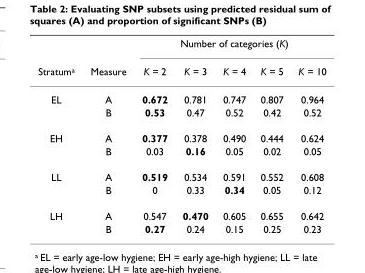table: (37, 36, 325, 234)
table column: (81, 36, 133, 234), (37, 36, 81, 234), (133, 36, 174, 234), (174, 36, 214, 234), (214, 36, 252, 234), (252, 36, 290, 234), (290, 36, 325, 234)
table column header: (37, 36, 325, 84)
table row: (37, 56, 325, 84), (37, 84, 325, 105), (37, 36, 325, 56), (37, 124, 325, 144), (37, 182, 325, 202), (37, 105, 325, 124), (37, 144, 325, 163), (37, 163, 325, 182), (37, 202, 325, 221), (37, 221, 325, 234)
table spanning cell: (133, 36, 325, 56), (81, 36, 133, 84), (37, 36, 81, 84), (37, 84, 81, 124), (37, 124, 81, 163), (37, 163, 81, 202), (37, 202, 81, 234)
